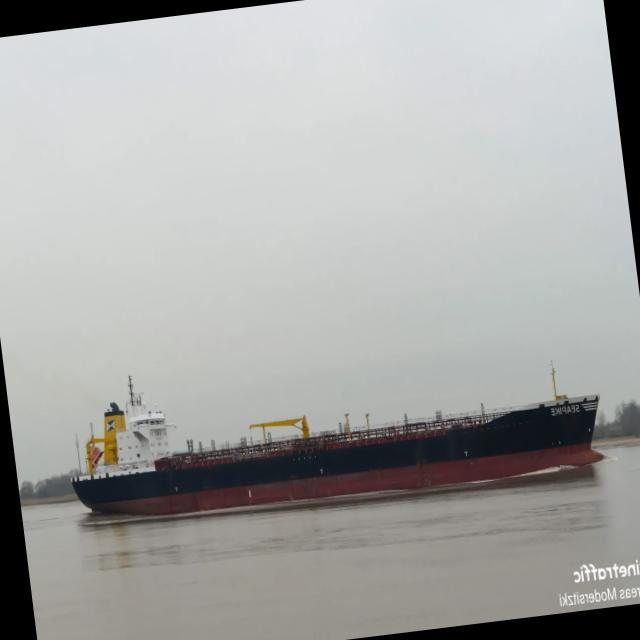Tanker: (71, 375, 604, 515)
